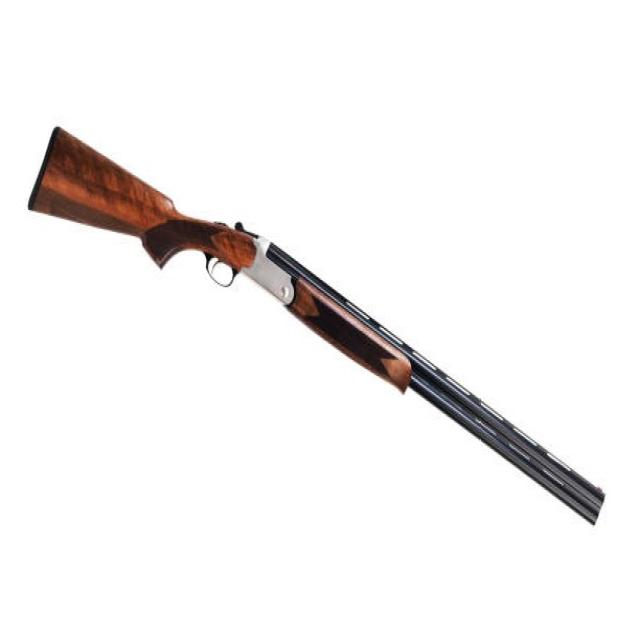rifle: (17, 119, 614, 540)
